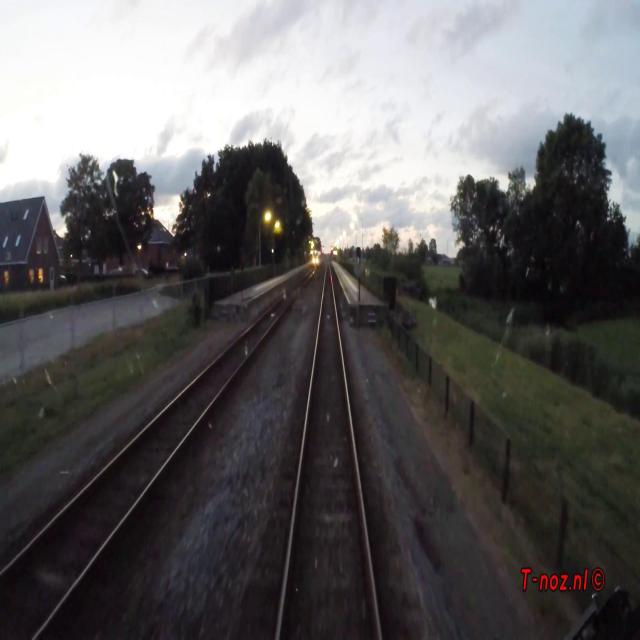rail-track: (0, 268, 315, 639), (279, 260, 377, 639)
